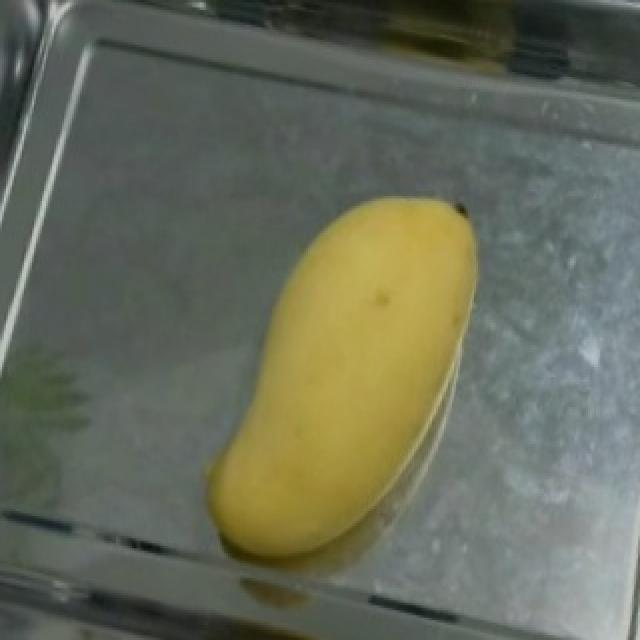fruit: (222, 156, 508, 536)
